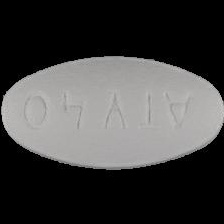63187-109: (0, 0, 224, 224)
